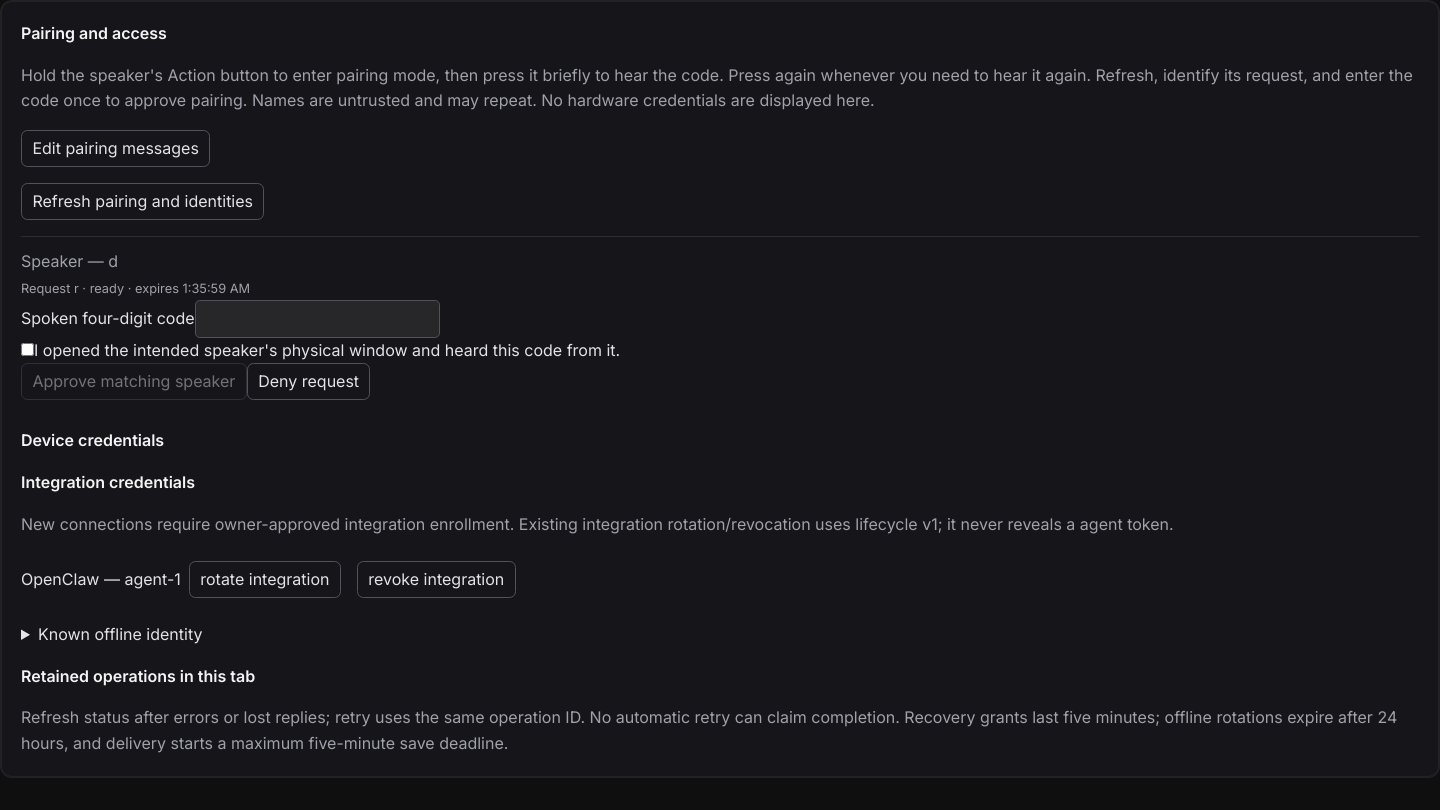
Test: reconciles pairing status and retries after a failed approval
Type "0012" into the field labelled "Spoken four-digit code".
click(317, 319); type("0012")  # box [195,300,440,338]
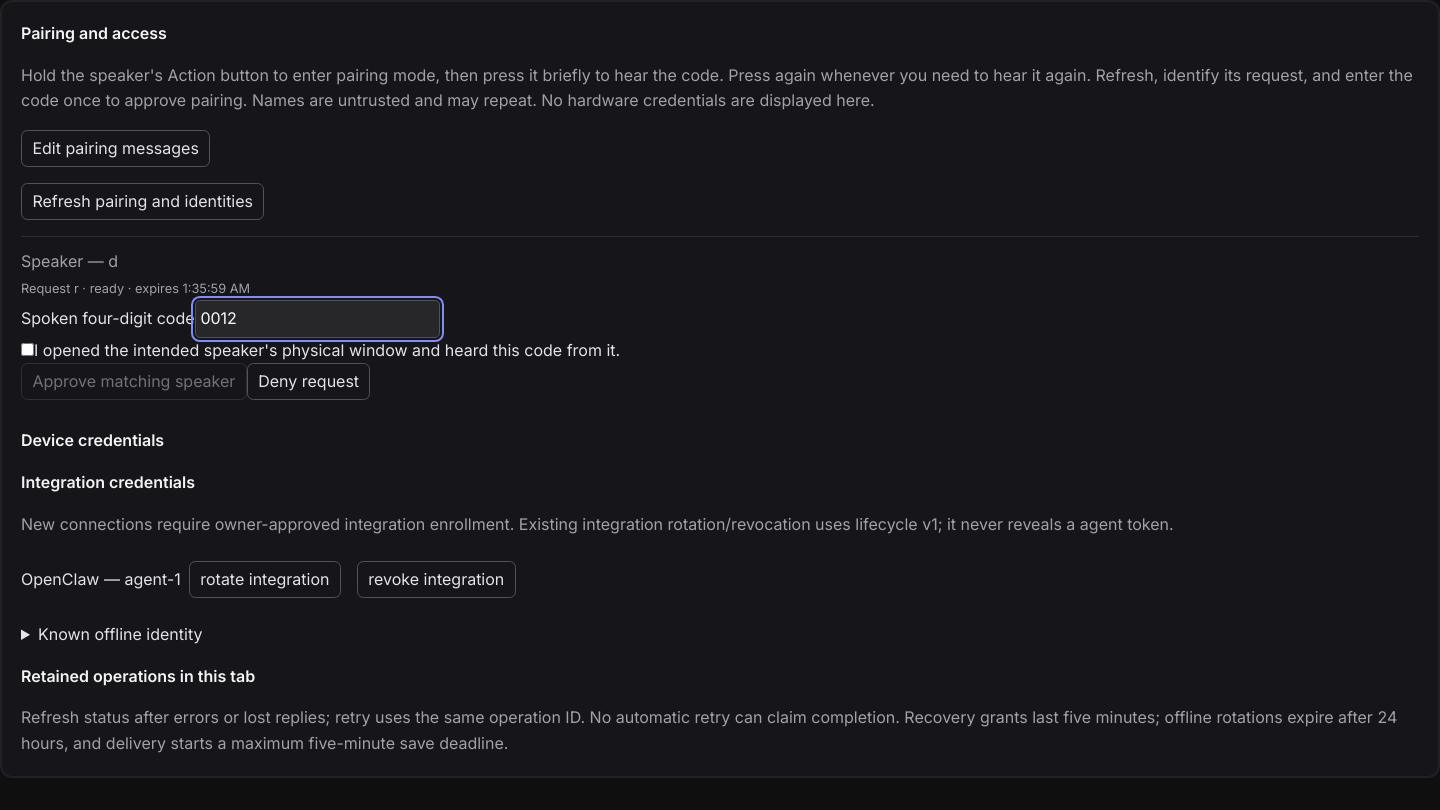
Click the checkbox.
click(28, 349)  # box [21,342,34,356]
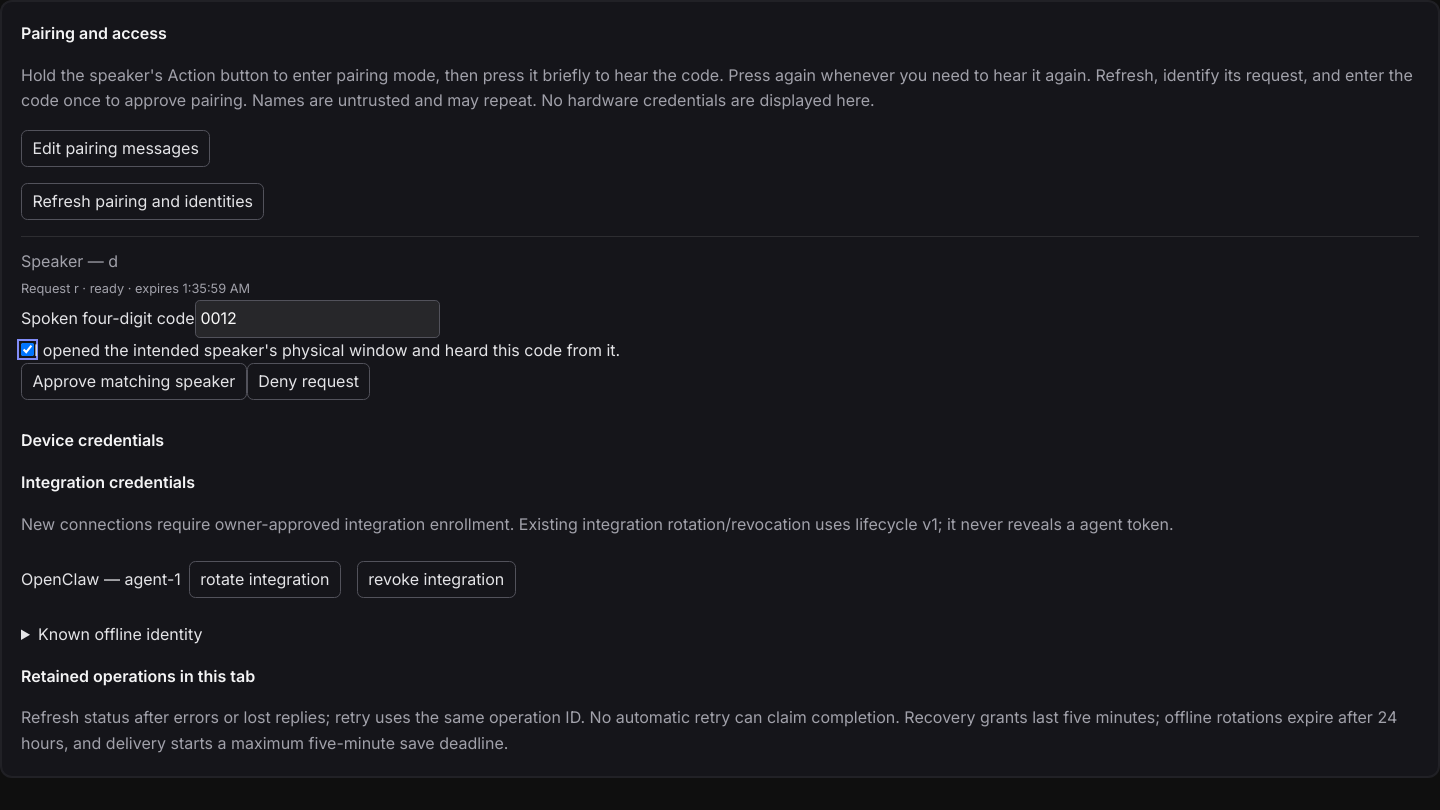
Click the button "Approve matching speaker".
click(134, 382)  # box [21,363,247,400]
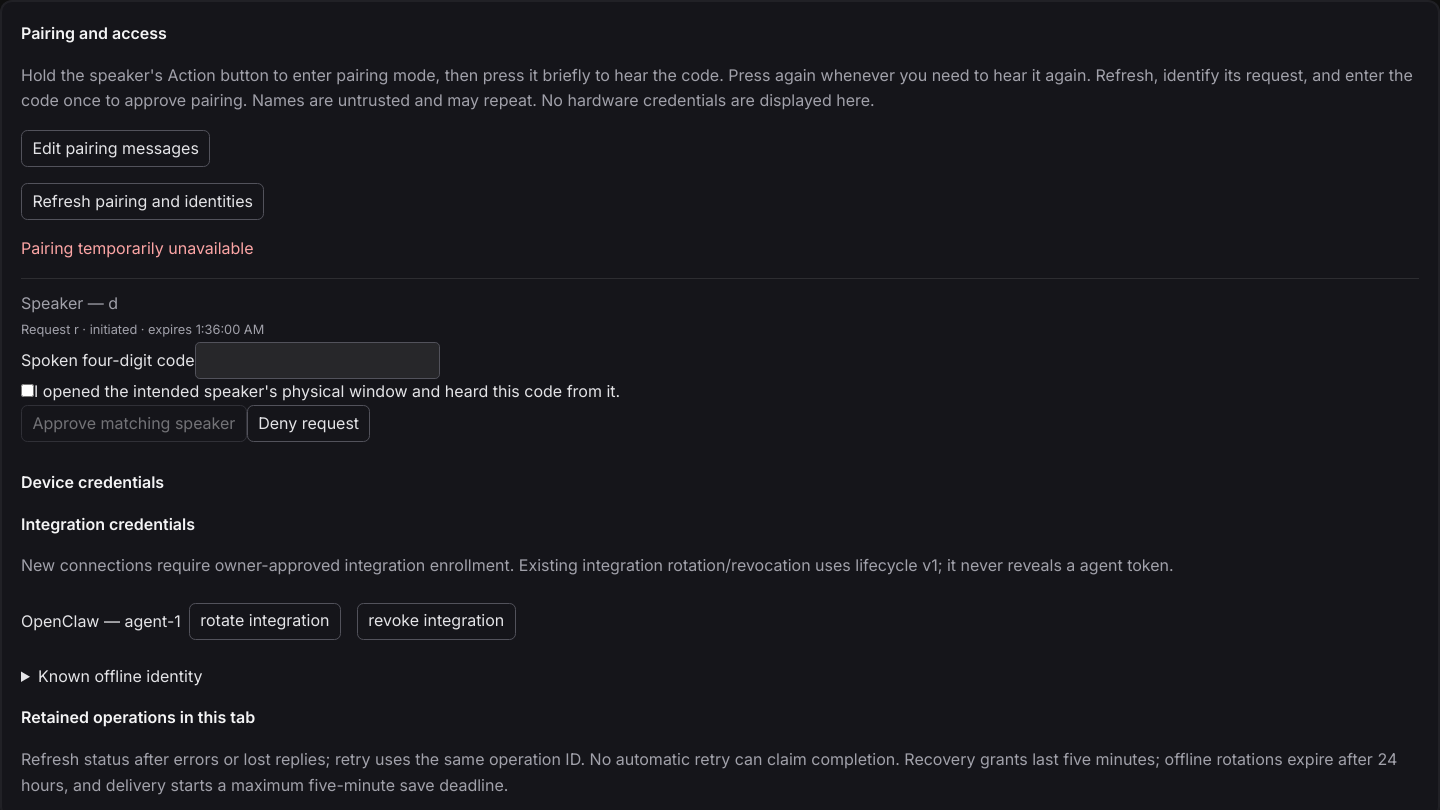
Expected: the checkbox is not checked, [21,384,34,397]
Expected: the message reads "Pairing temporarily unavailable", [21,238,254,258]
Expected: the field labelled "Spoken four-digit code" is empty
Type "0012" into the field labelled "Spoken four-digit code".
click(317, 360); type("0012")  # box [195,342,440,379]
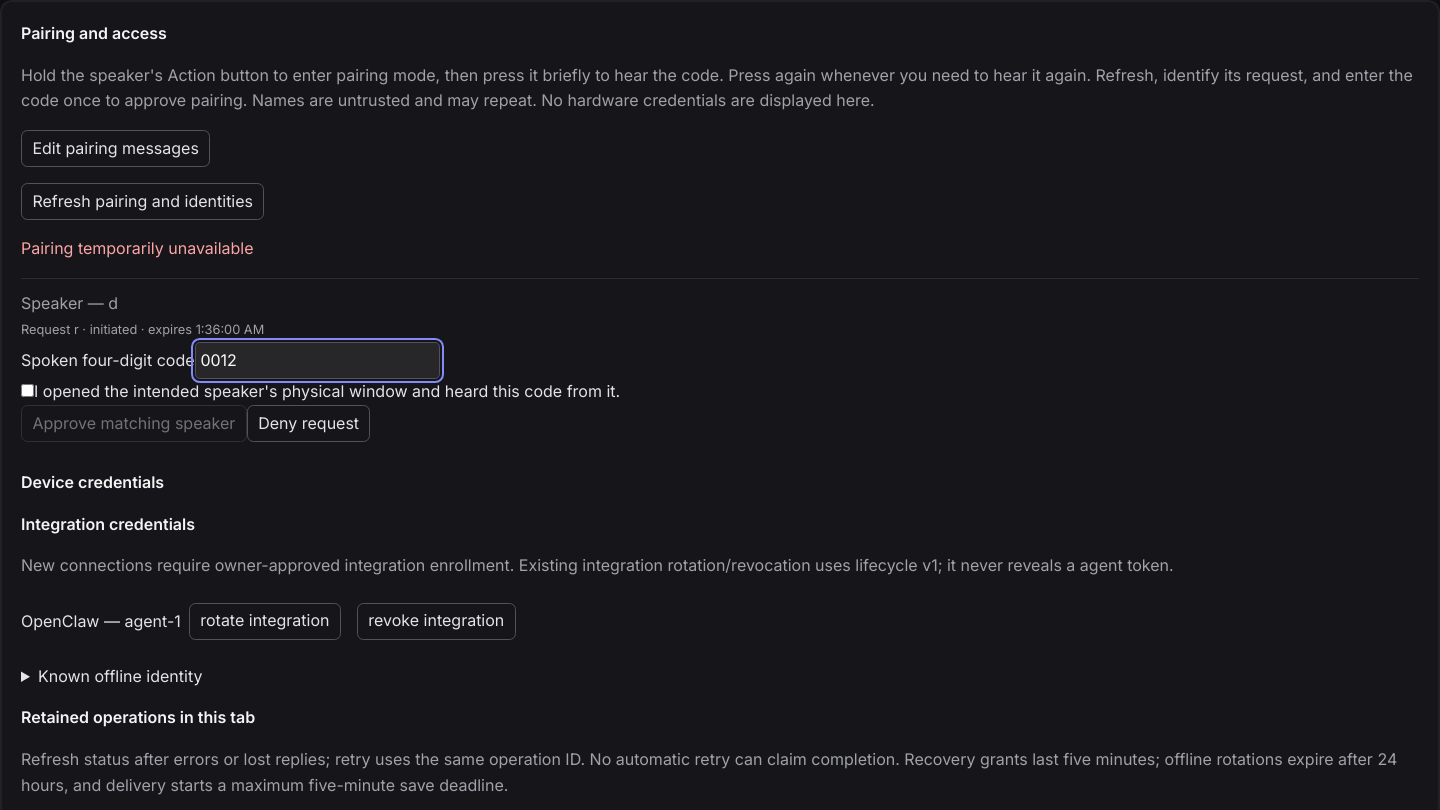
Click the checkbox.
click(28, 391)  # box [21,384,34,397]
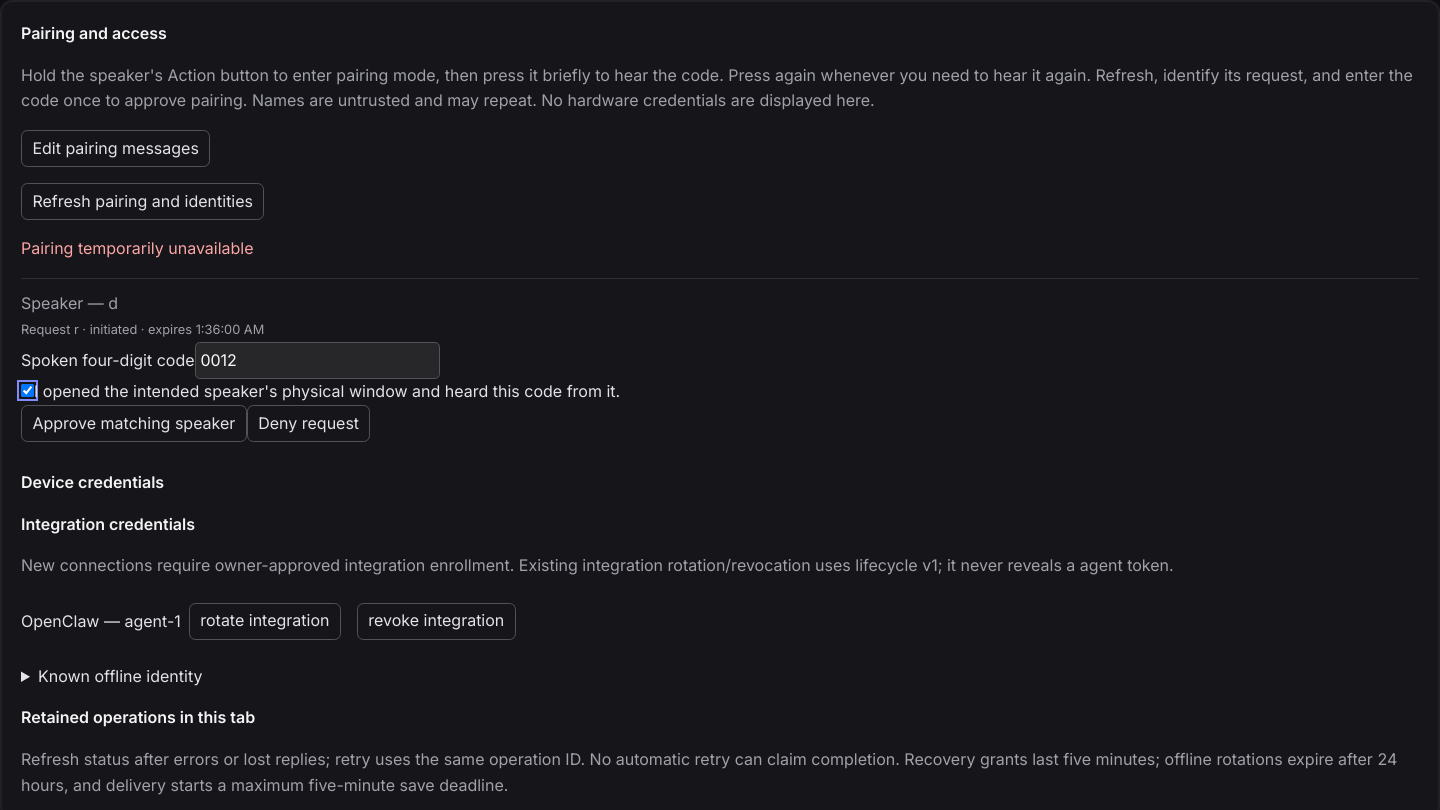
Click the button "Approve matching speaker".
click(134, 423)  # box [21,405,247,442]
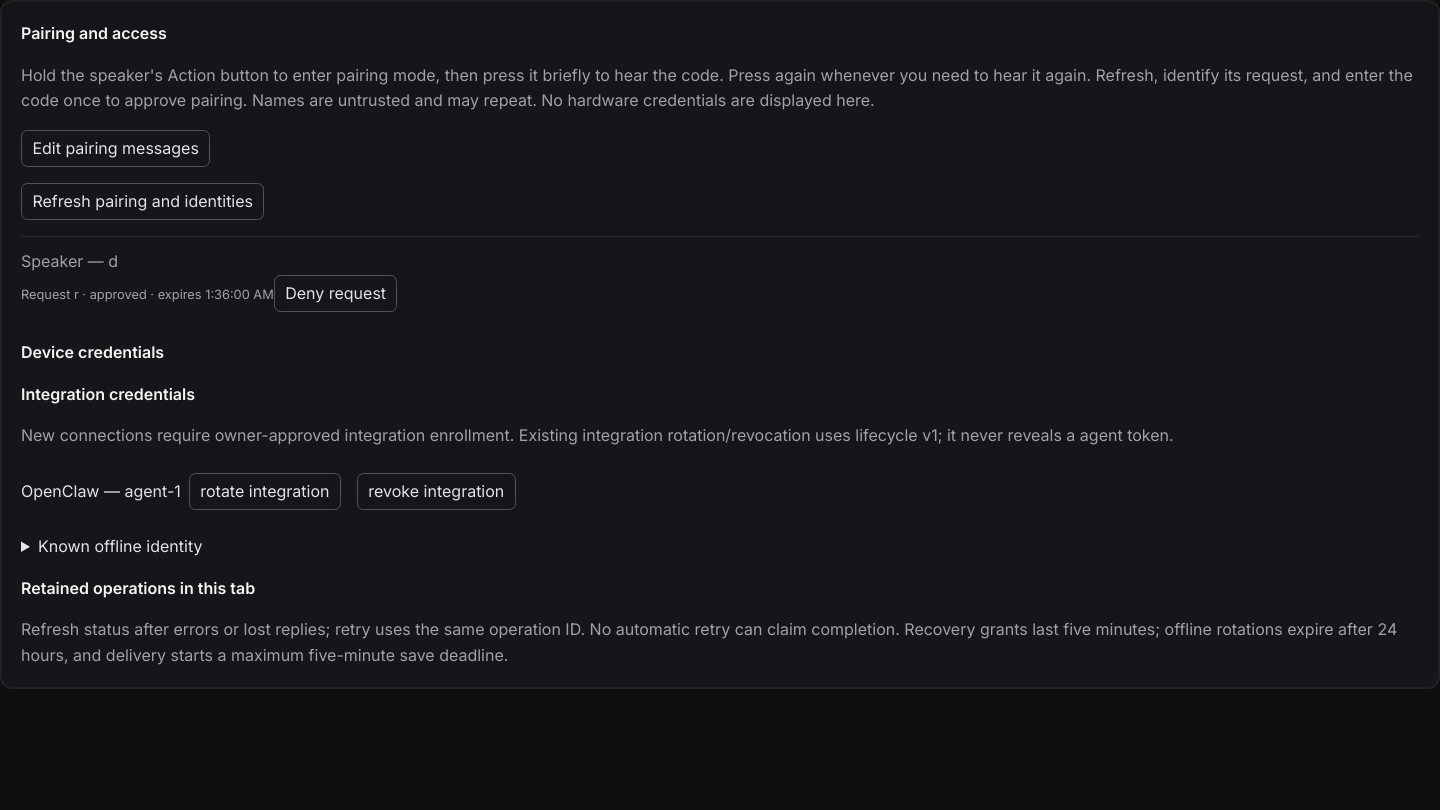
Expected: the label labelled "Spoken four-digit code" is gone
